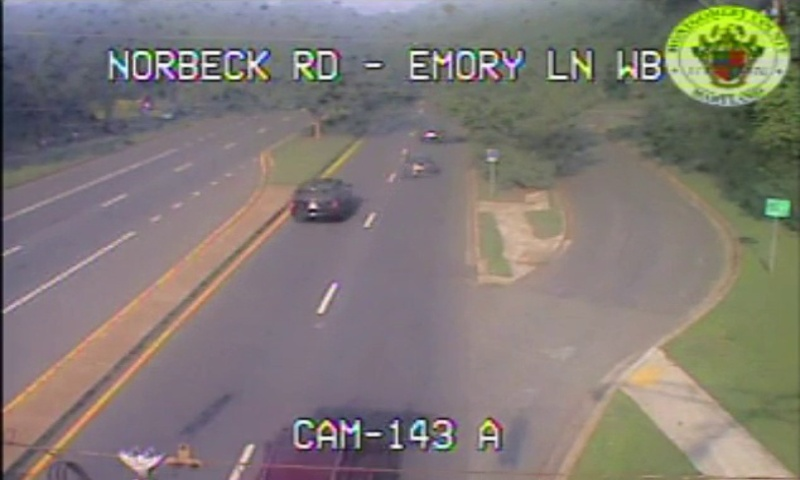car: (290, 181, 347, 221)
